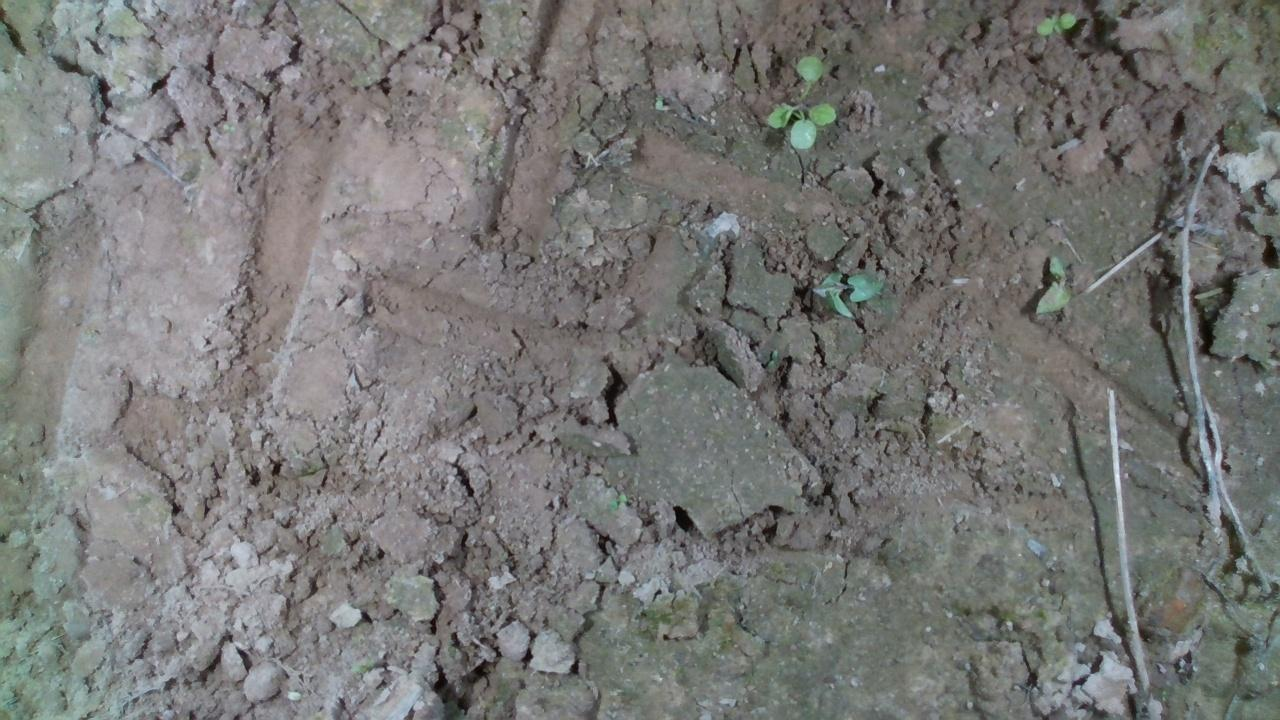weed: (762, 54, 836, 151), (811, 270, 884, 318), (1034, 8, 1075, 35)
